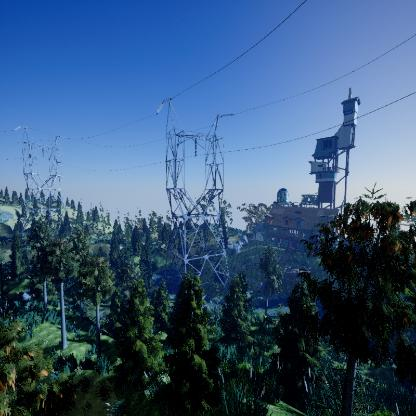tower: (152, 94, 237, 280), (11, 123, 64, 217)
